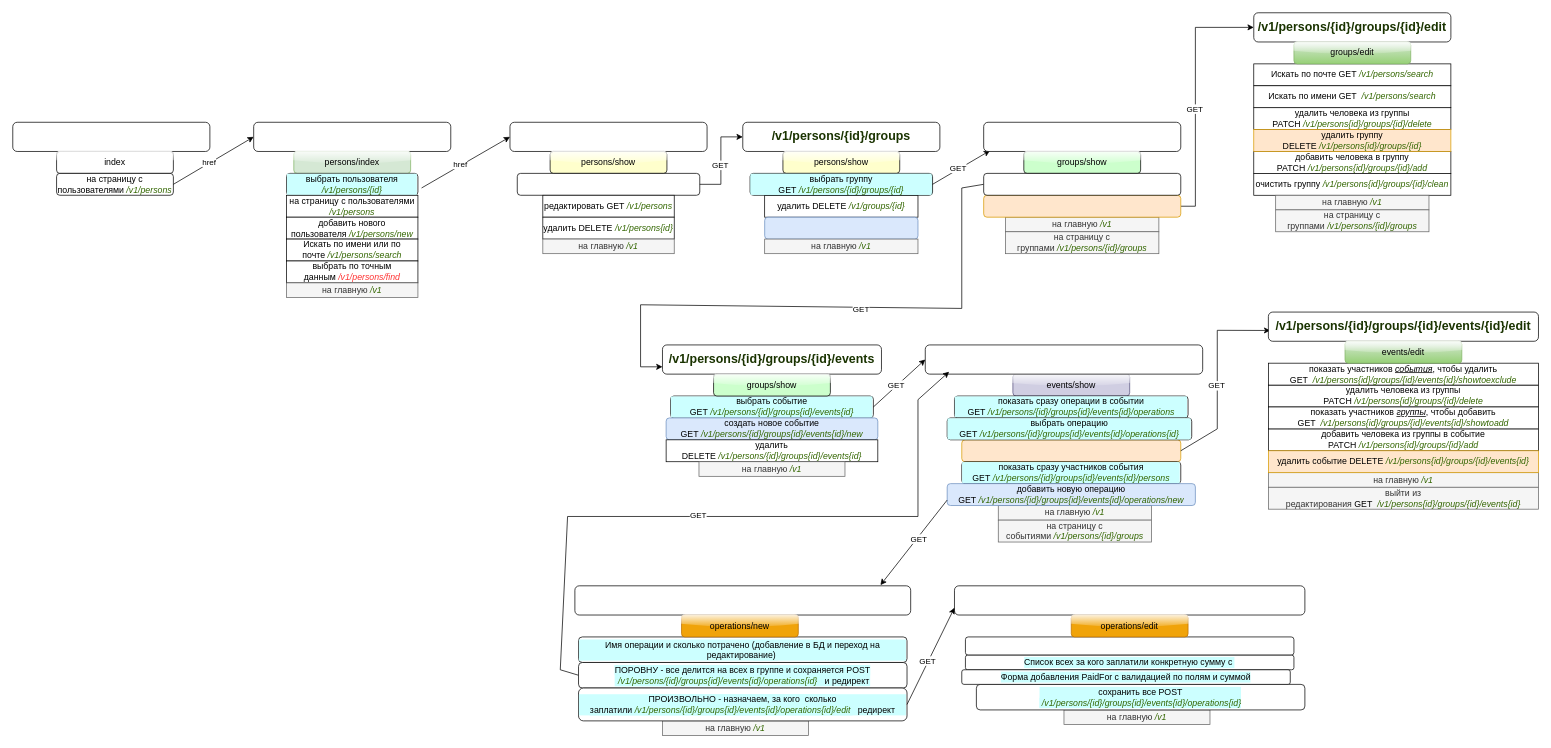
This 1551x748 diagram has some shape labels left out. Here are the shapes that lost their labels. From the top down, the centre of each, then its label:
(111,136): /v1
(352,136): /v1/persons
(608,136): /v1/persons/{id}
(1082,136): /v1/persons/{id}/groups/{id}
(608,184): показать группы человека /v1/persons/{id}/groups
(1082,184): показать события в группе GET /v1/persons/{id}/groups/{id}/events
(1082,206): редактировать группу GET /v1/persons/{id}/groups/{id}/edit
(841,227): создать новую /v1/groups/{id}/ new
(1064,359): /v1/persons/{id}/groups/{id}/events/{id}
(1071,450): редактировать событие GET /v1/persons/{id}/groups{id}/events{id}/edit
(742,600): /v1/persons/{id}/groups/{id}/events{id}/operations/new
(1129,600): /v1/persons/{id}/groups/{id}/events/{id}/operations/{id}/edit
(1129,645): Вывод всех за кого заплатили. Можно добавить PaidFor
